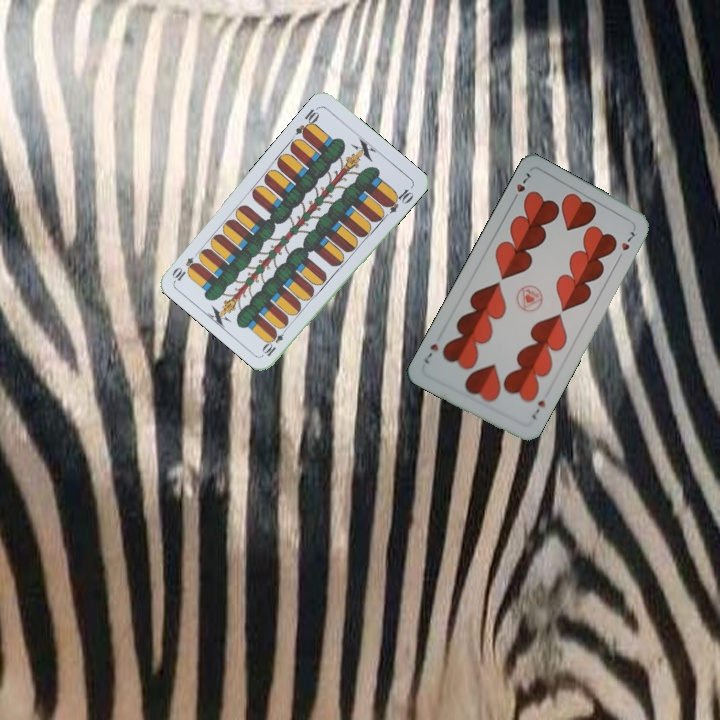E10: (291, 103, 322, 141), (259, 322, 290, 359)
H7: (508, 168, 533, 205), (528, 396, 548, 422)
